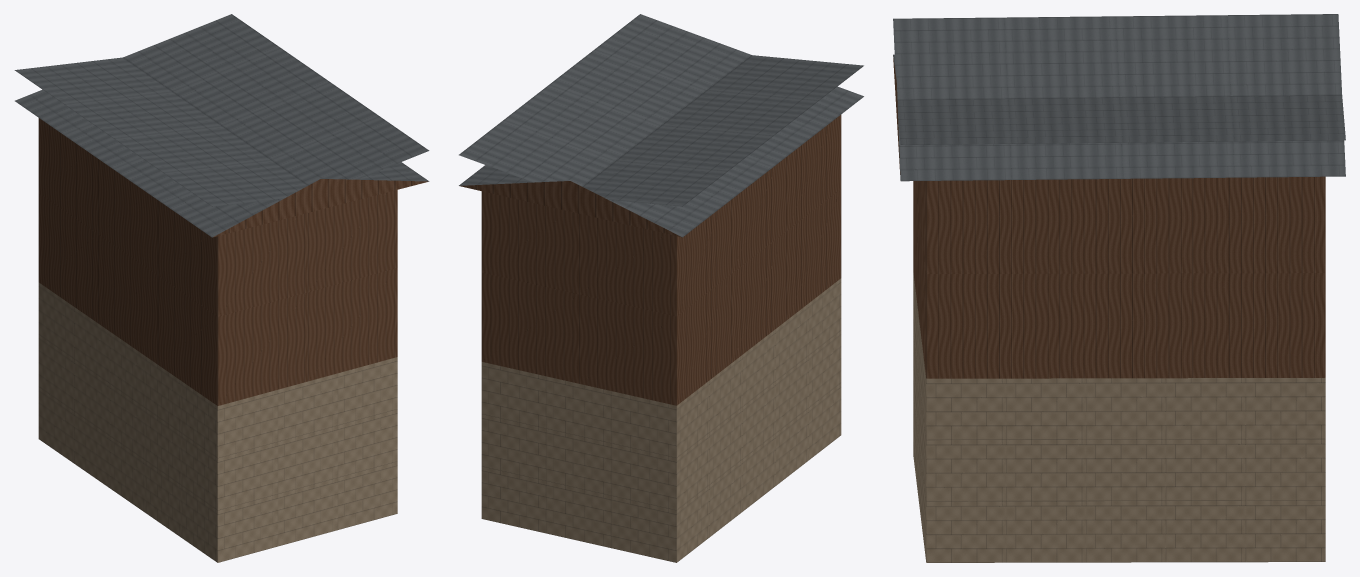
File: bld_c37_-28_438.gltf
3 renders of one model, left to right at view 1: azimuth 30°, elevation 25°; view 2: azimuth 150°, elevation 25°; view 3: azimuth 270°, elevation 25°, orthographic. The views are drawn at different scales.
Visible parts, largest first — view 1: bld_c37_-28_438; view 2: bld_c37_-28_438; view 3: bld_c37_-28_438.
Part boxes in pixels (x1,y1,x2,y2): bld_c37_-28_438: (14, 14, 429, 562); bld_c37_-28_438: (459, 14, 863, 562); bld_c37_-28_438: (893, 14, 1345, 562).
Size of the model in its own units: 7.79 by 11.9 by 11.36.
4 materials, 4 textured.
